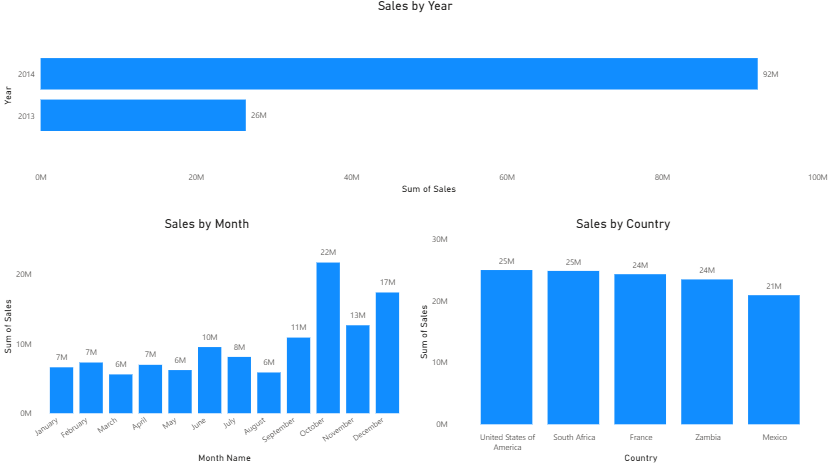

Layout of this report page (visuals, bound fields, positions):
{"tool":"powerbi","page":{"name":"Page 2","canvas":[1280,720],"ordinal":1},"visuals":[{"type":"lineClusteredColumnComboChart","title":"Sales by Month ","fields":{"Category":["financials.Month Name"],"Y":["Sum(financials. Sales)"]},"box":[0,335.5,639.4,384.5],"z":0},{"type":"columnChart","title":"Sales by Country","fields":{"Category":["financials.Country"],"Y":["Sum(financials. Sales)"]},"box":[639.4,335.5,640.8,384.5],"z":1000},{"type":"clusteredBarChart","title":"Sales by Year","fields":{"Category":["financials.Year"],"Y":["Sum(financials. Sales)"]},"box":[0,0,1280.2,306.7],"z":2000}]}

Visuals, with their boxes in screenshot pixels (x1, y1, x2, y2), scaled from the page's 1280x720 canvas onto the 830x464 screenshot:
"Sales by Month " lineClusteredColumnComboChart: (0,216,415,463)
"Sales by Country" columnChart: (415,216,829,463)
"Sales by Year" clusteredBarChart: (0,0,829,198)
